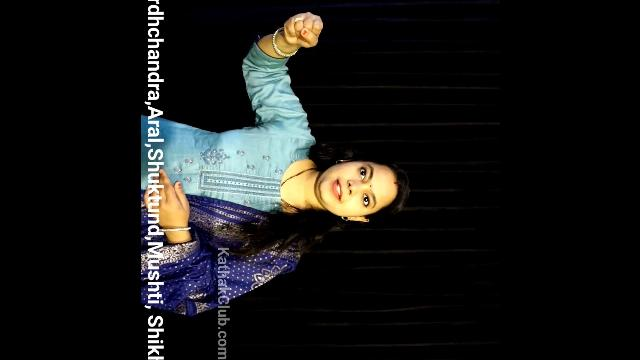mushti: (250, 3, 336, 68)
